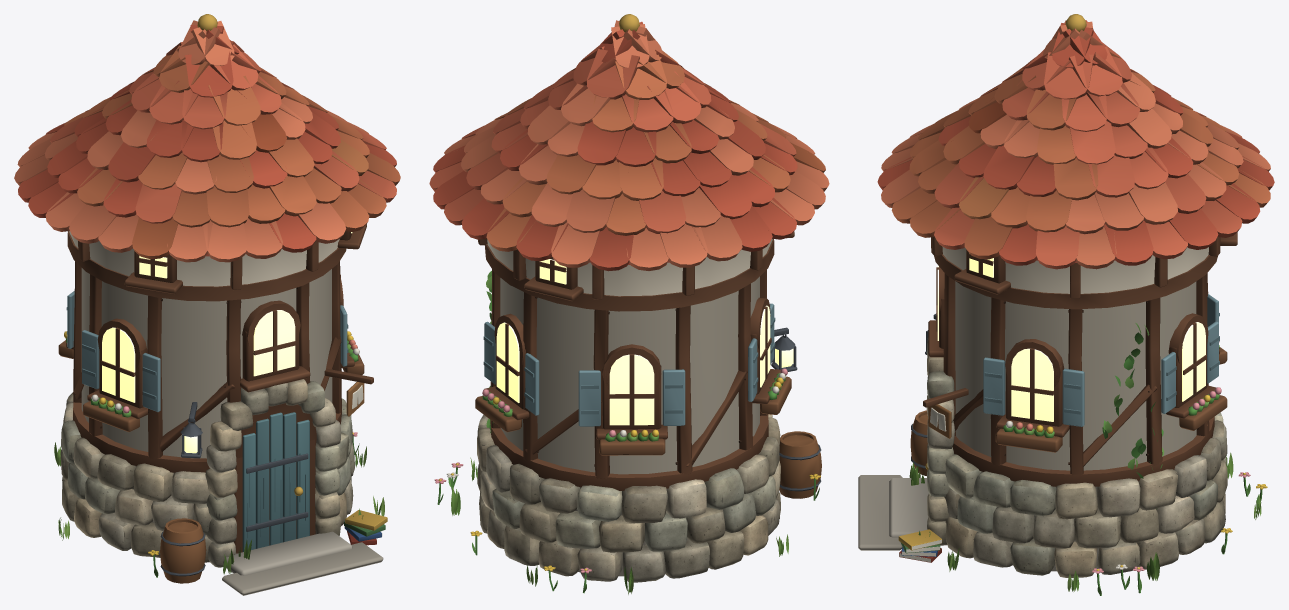
Rendered from library_tower.gltf.
3 renders of one model, left to right at view 1: azimuth 30°, elevation 25°; view 2: azimuth 150°, elevation 25°; view 3: azimuth 270°, elevation 25°, orthographic. The views are drawn at different scales.
Visible parts, largest first — view 1: Tower, Stones; view 2: Tower, Stones; view 3: Tower, Stones.
Part boxes in pixels (<box>): Tower: <box>14,14,400,595</box>; Stones: <box>60,379,354,567</box>; Tower: <box>429,14,829,594</box>; Stones: <box>477,414,780,582</box>; Tower: <box>858,14,1274,595</box>; Stones: <box>926,337,1227,577</box>.
Size of the model in its own units: 4.45 by 6.26 by 4.69.
Materials: 43 (1 with a texture image).
